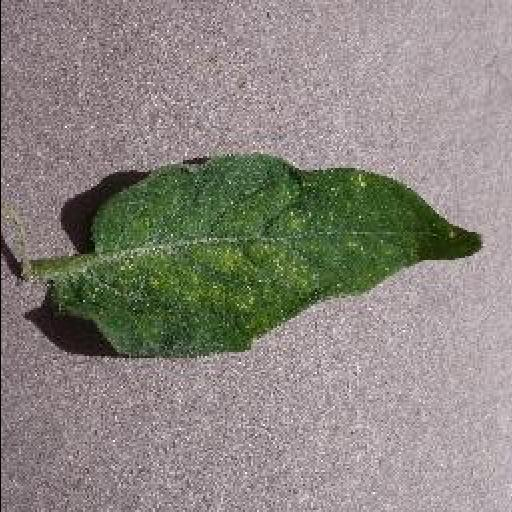disease_tomato: (49, 152, 487, 360)
